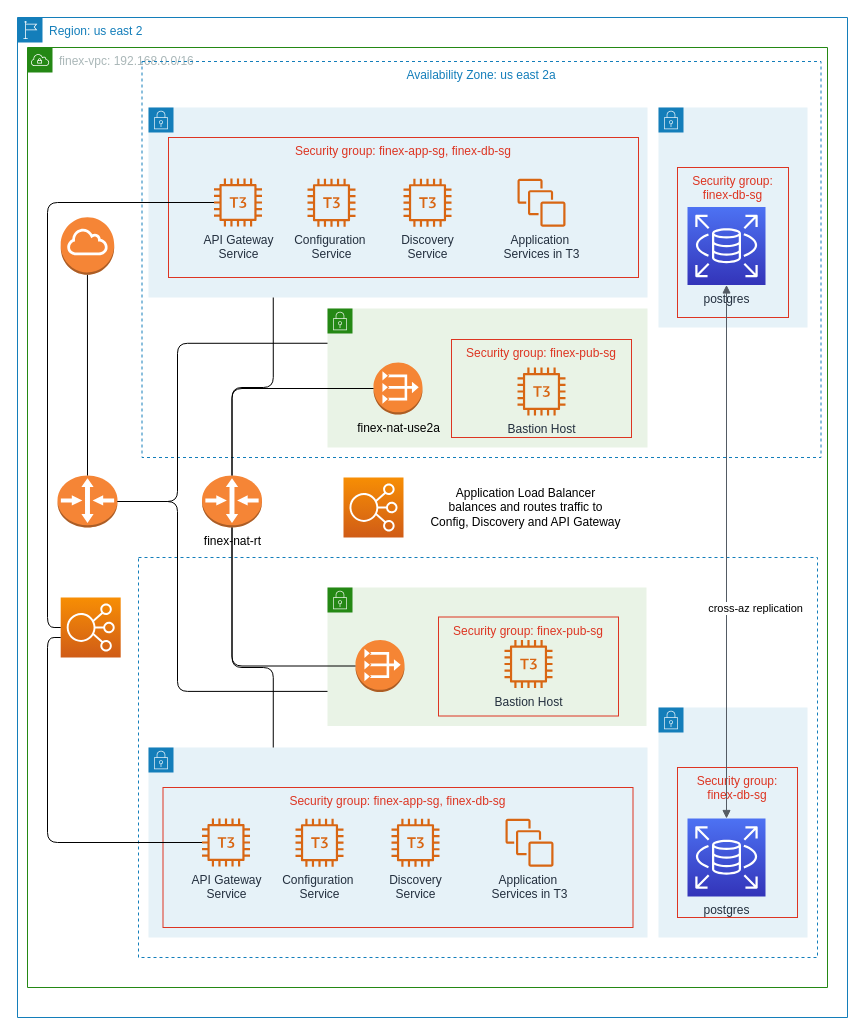
Some shapes in this 865 by 1035 pixel diagram are drawn without their labels. The box of each missing label's shape, as (x1, y1, x2, y2) in pixels:
Availability Zone: us east 2b: (138, 556, 818, 958)
finex-igw: (60, 216, 114, 275)
finex-igw-rt: (56, 474, 118, 528)
finex-nat-use2b: (354, 639, 404, 692)
Internet Facing ELB: (60, 596, 121, 658)
Private subnet: finex-app-use2a, 192.168.2.0/24: (148, 106, 648, 298)
Private subnet: finex-app-use2b, 192.168.5.0/24: (148, 746, 648, 938)
Private subnet: finex-db-use2a 192.168.3.0/24: (658, 106, 808, 328)
Private subnet: finex-db-use2b 192.168.6.0/24: (658, 706, 808, 938)
Pubic subnet: finex-pub-use2b, 192.168.4.0/24: (326, 586, 646, 726)
Publi subnet: finex-pub-use2a, 192.168.1.0/24: (326, 308, 648, 448)
